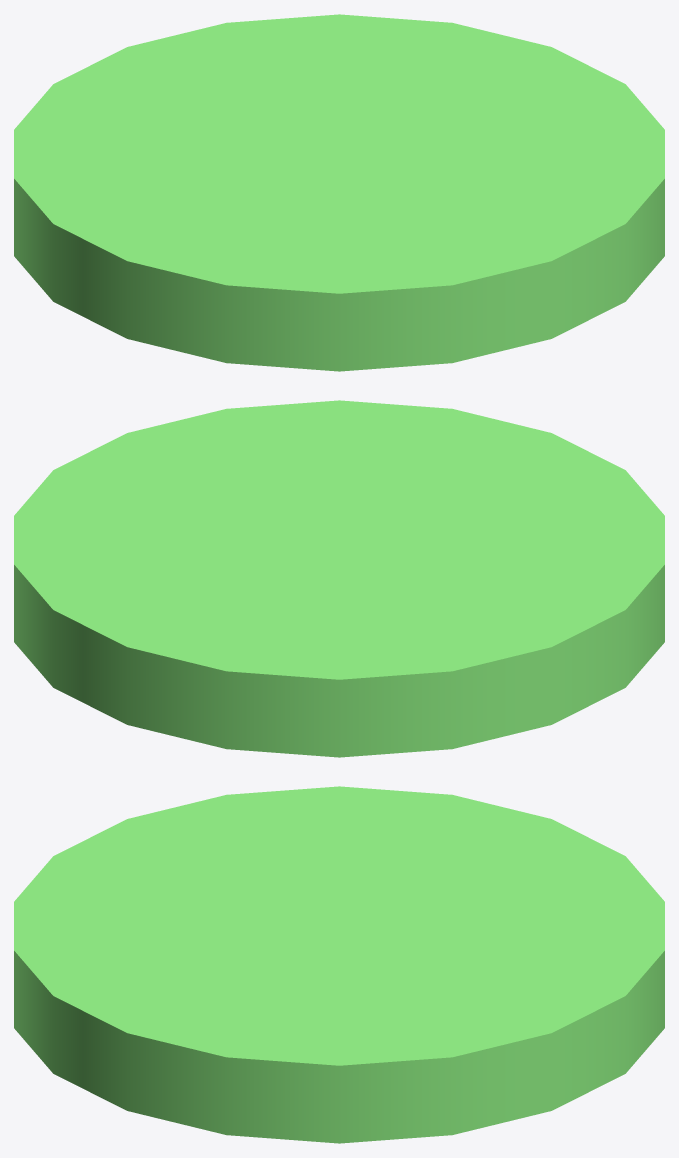
The model's file is RCube.FBX.
3 views of the same model, one above another, from view 1: azimuth 30°, elevation 25°; view 2: azimuth 150°, elevation 25°; view 3: azimuth 270°, elevation 25° (orthographic).
Parts seen in each view (by area): view 1: Cylinder001; view 2: Cylinder001; view 3: Cylinder001.
Part boxes in pixels (x1,y1,x2,y2): Cylinder001: [14, 14, 664, 371]; Cylinder001: [14, 400, 664, 757]; Cylinder001: [14, 786, 664, 1143].
Bounding box in the file's own units: 15.43 × 2 × 15.2.
